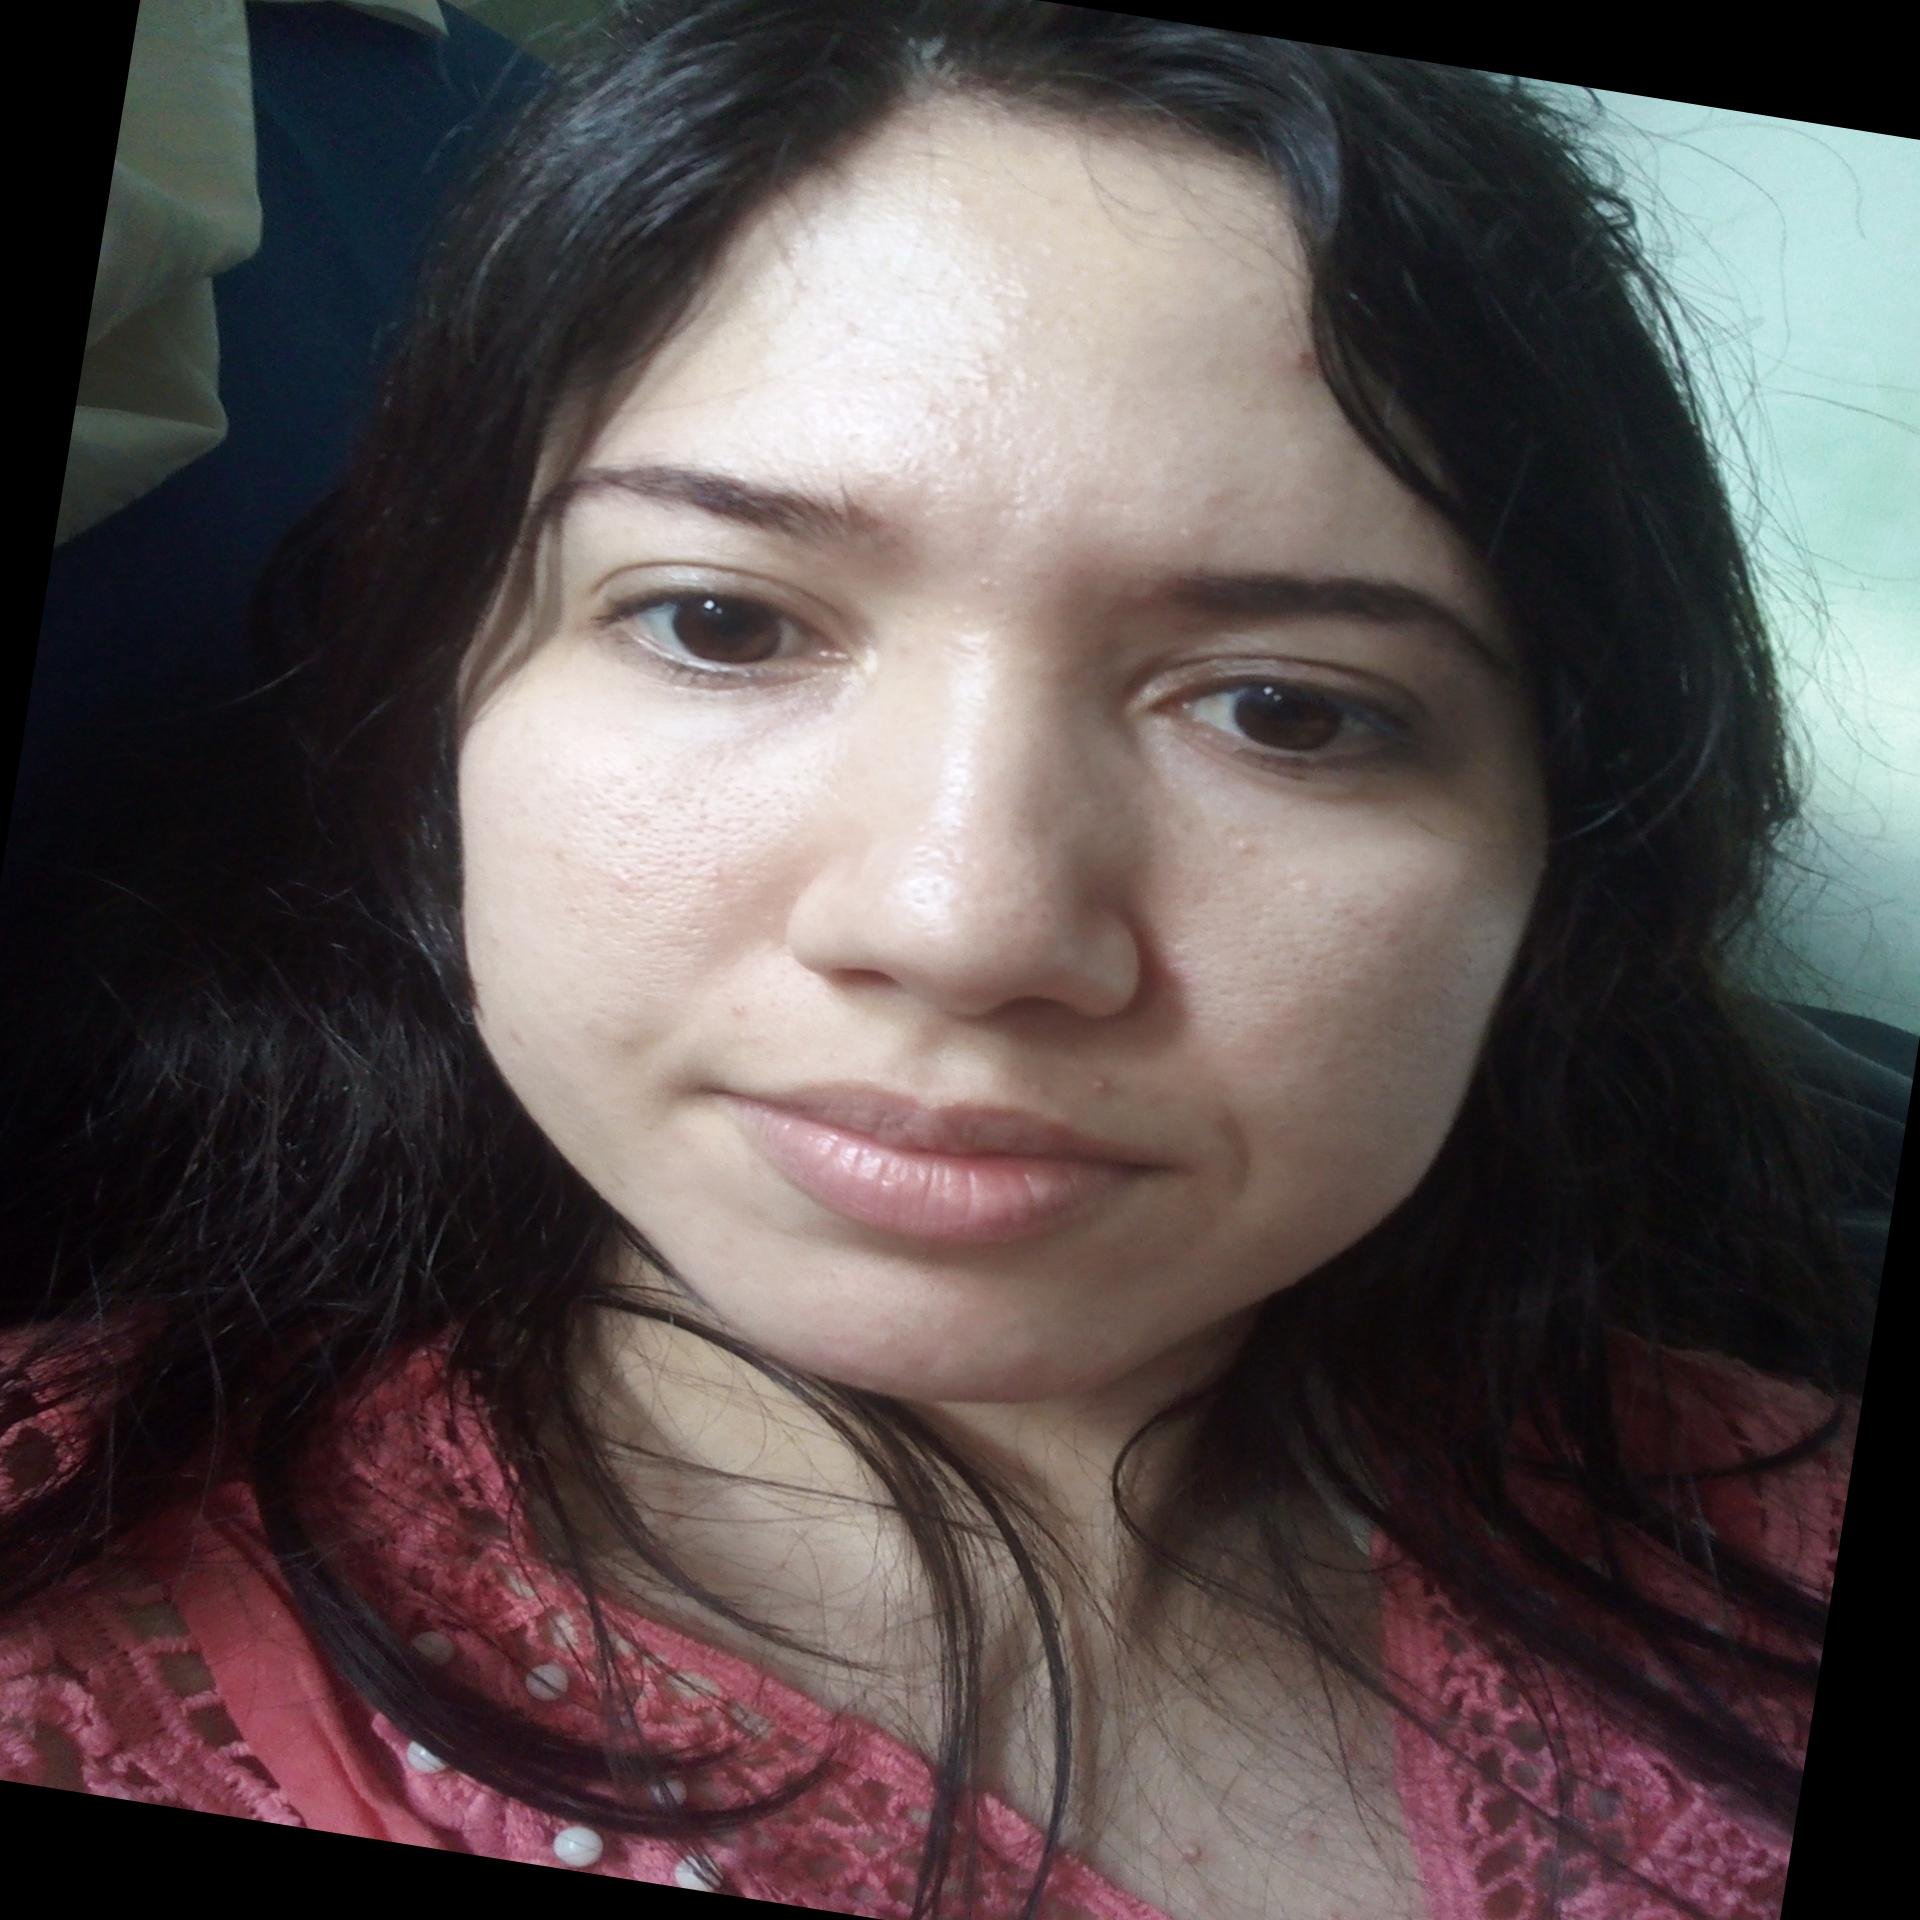Acne: (1275, 336, 1331, 383), (939, 192, 988, 227), (716, 993, 761, 1029), (930, 431, 974, 462), (1081, 1069, 1122, 1102), (965, 564, 1007, 596), (505, 1020, 543, 1053)
Englarged Pores: (543, 737, 814, 1015), (1171, 840, 1421, 1065), (891, 800, 1034, 935)
Wrinkles: (1185, 1094, 1275, 1252)
